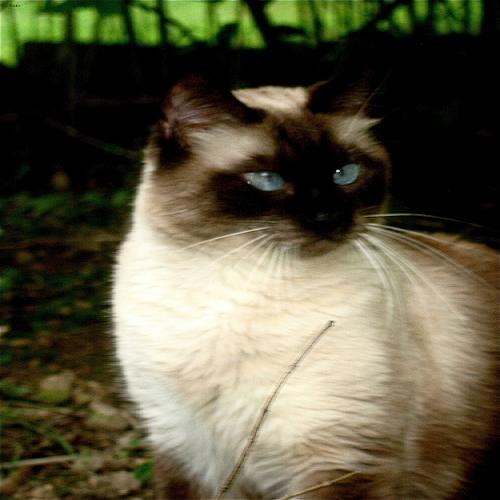siamese: (131, 43, 428, 266)
